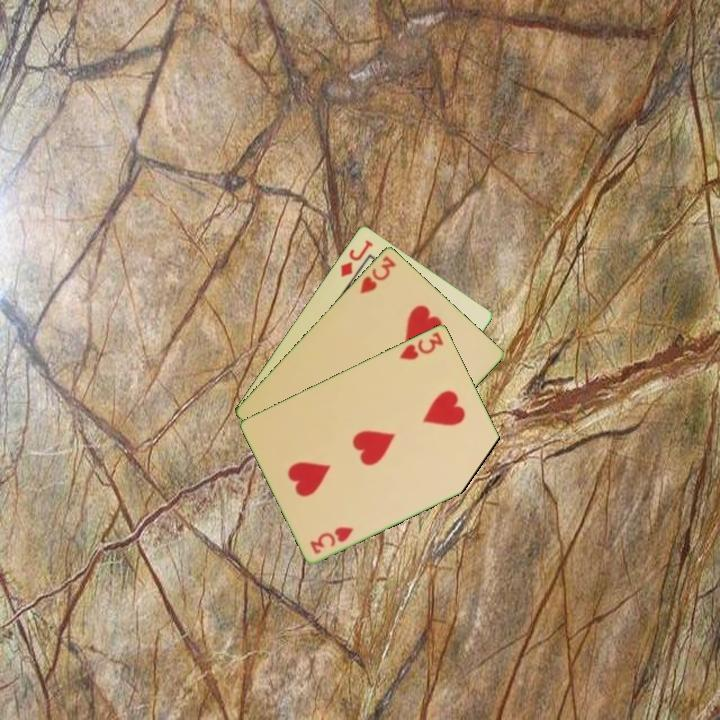3h: (356, 252, 399, 297), (396, 328, 447, 363), (306, 523, 357, 556)
Jd: (337, 236, 376, 279)
